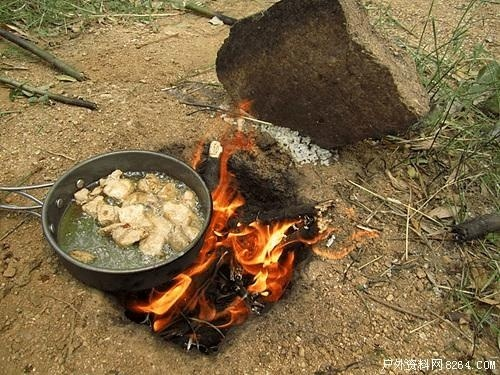fire: (137, 105, 329, 332)
